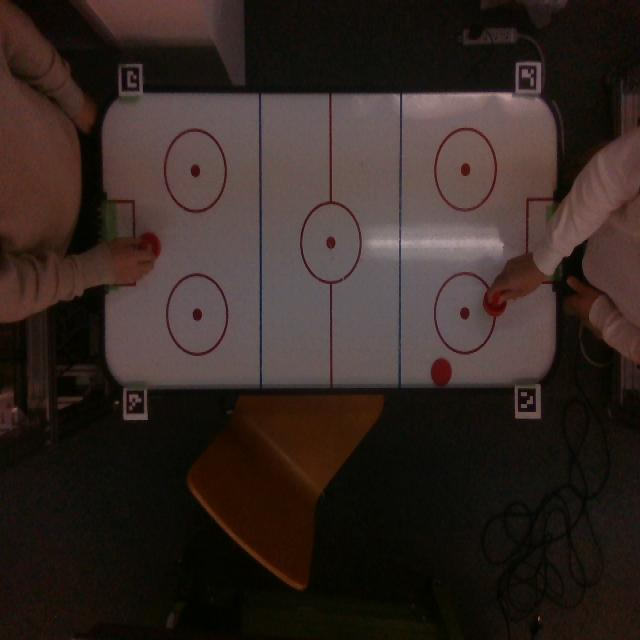puck: (431, 359, 452, 387)
